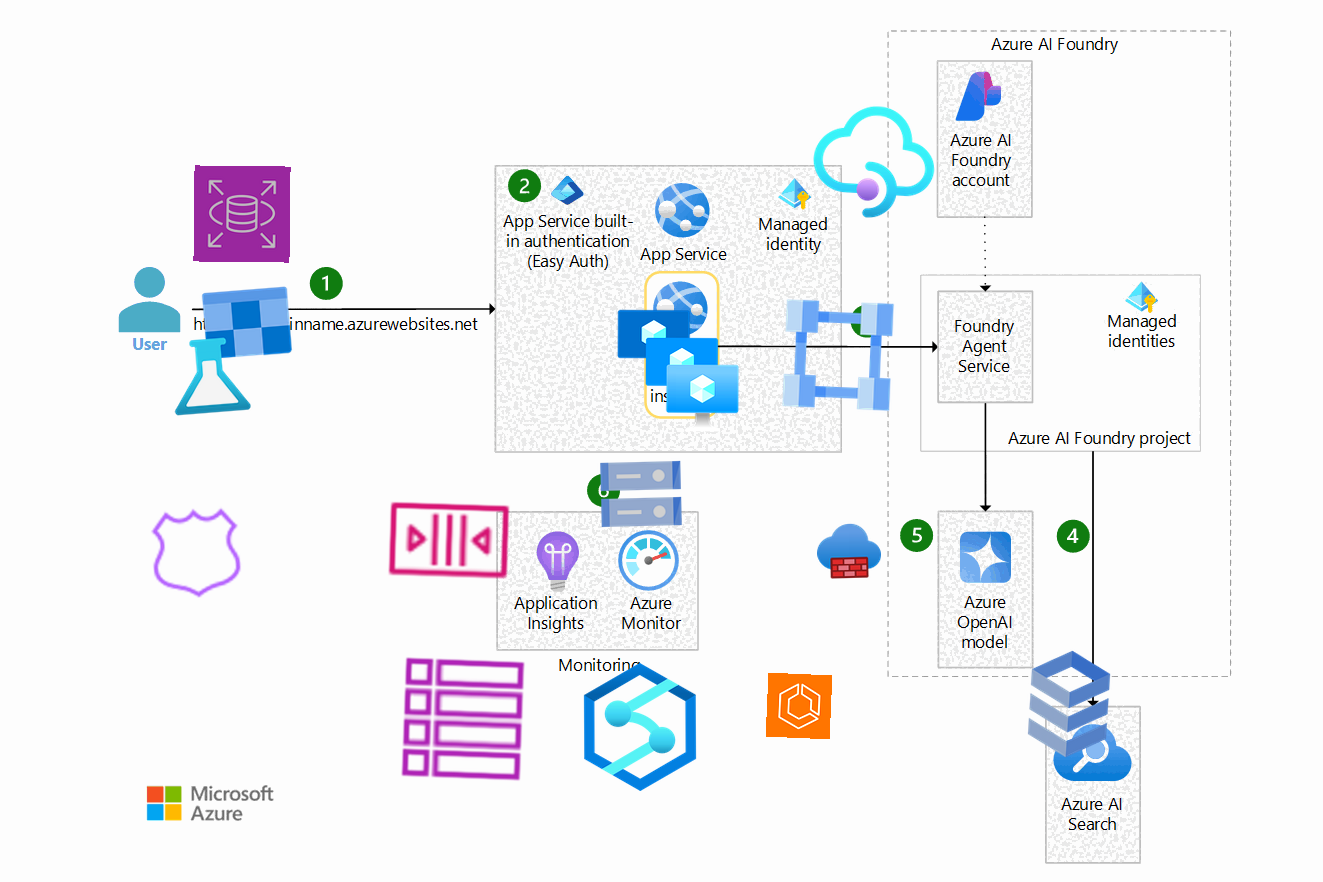aws_amazon_elastic_container_service: (765, 672, 833, 740)
aws_amazon_rds: (193, 165, 291, 263)
aws_dynamodb_table: (396, 652, 530, 786)
aws_route_53_hosted_zone: (145, 501, 249, 605)
aws_simple_queue_service_queue: (382, 472, 516, 606)
azure_api_management_services: (806, 94, 942, 230)
azure_firewalls: (816, 518, 882, 584)
azure_machine_learning_studio_workspaces: (162, 282, 300, 420)
azure_synapse_analytics: (575, 662, 705, 792)
azure_vm_scale_sets: (611, 303, 741, 433)
gcp_cloud_sql: (1001, 636, 1137, 772)
gcp_cloud_storage: (591, 444, 691, 544)
gcp_virtual_private_cloud: (771, 288, 905, 422)
